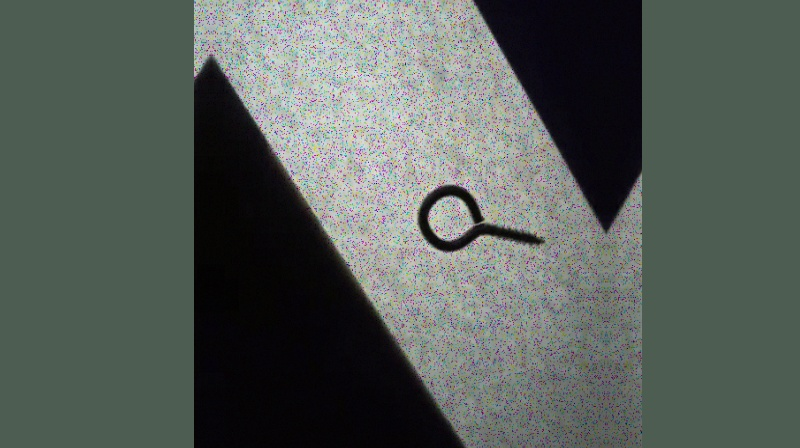O001: (415, 178, 547, 253)
